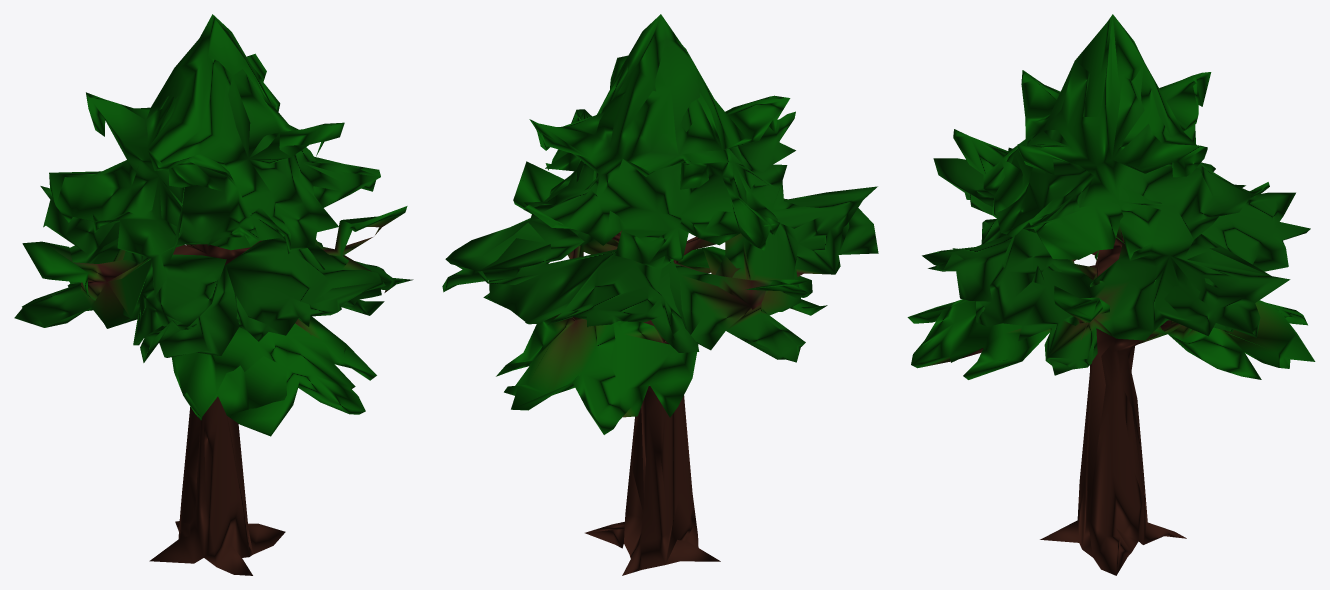
The model's file is gen3d-dead-pine-tree-lod0.glb.
3 renders of one model, left to right at view 1: azimuth 30°, elevation 25°; view 2: azimuth 150°, elevation 25°; view 3: azimuth 270°, elevation 25°, orthographic. The views are drawn at different scales.
Parts seen in each view (by area): view 1: part_0; view 2: part_0; view 3: part_0.
Boxes of the visible parts, x1=… form: part_0: x1=14, y1=14, x2=413, y2=575; part_0: x1=442, y1=14, x2=878, y2=575; part_0: x1=907, y1=14, x2=1315, y2=575.
Size of the model in its own units: 0.6544 by 0.9981 by 0.6976.
